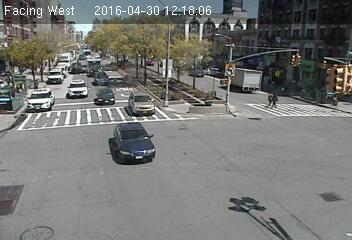neg: (183, 61, 210, 96), (15, 105, 41, 139), (211, 144, 234, 176), (264, 23, 287, 53), (67, 86, 89, 116), (42, 63, 62, 90), (265, 142, 285, 169), (162, 145, 182, 171), (96, 91, 115, 117), (78, 49, 96, 72), (310, 137, 328, 160), (118, 12, 135, 36), (317, 15, 334, 38), (128, 50, 144, 71), (50, 12, 66, 33), (110, 133, 124, 152), (128, 102, 141, 120), (162, 95, 175, 113), (218, 66, 230, 82), (198, 19, 210, 35), (21, 44, 32, 58), (233, 52, 242, 64)
pos: (264, 91, 278, 110), (270, 92, 282, 108)
